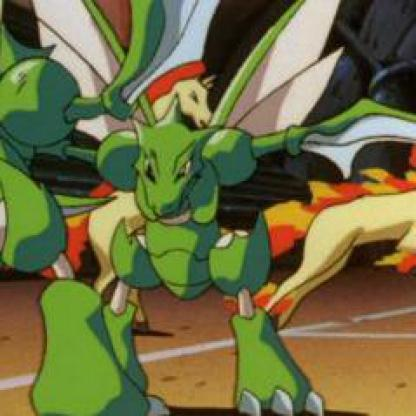Scyther: (1, 1, 316, 405)
